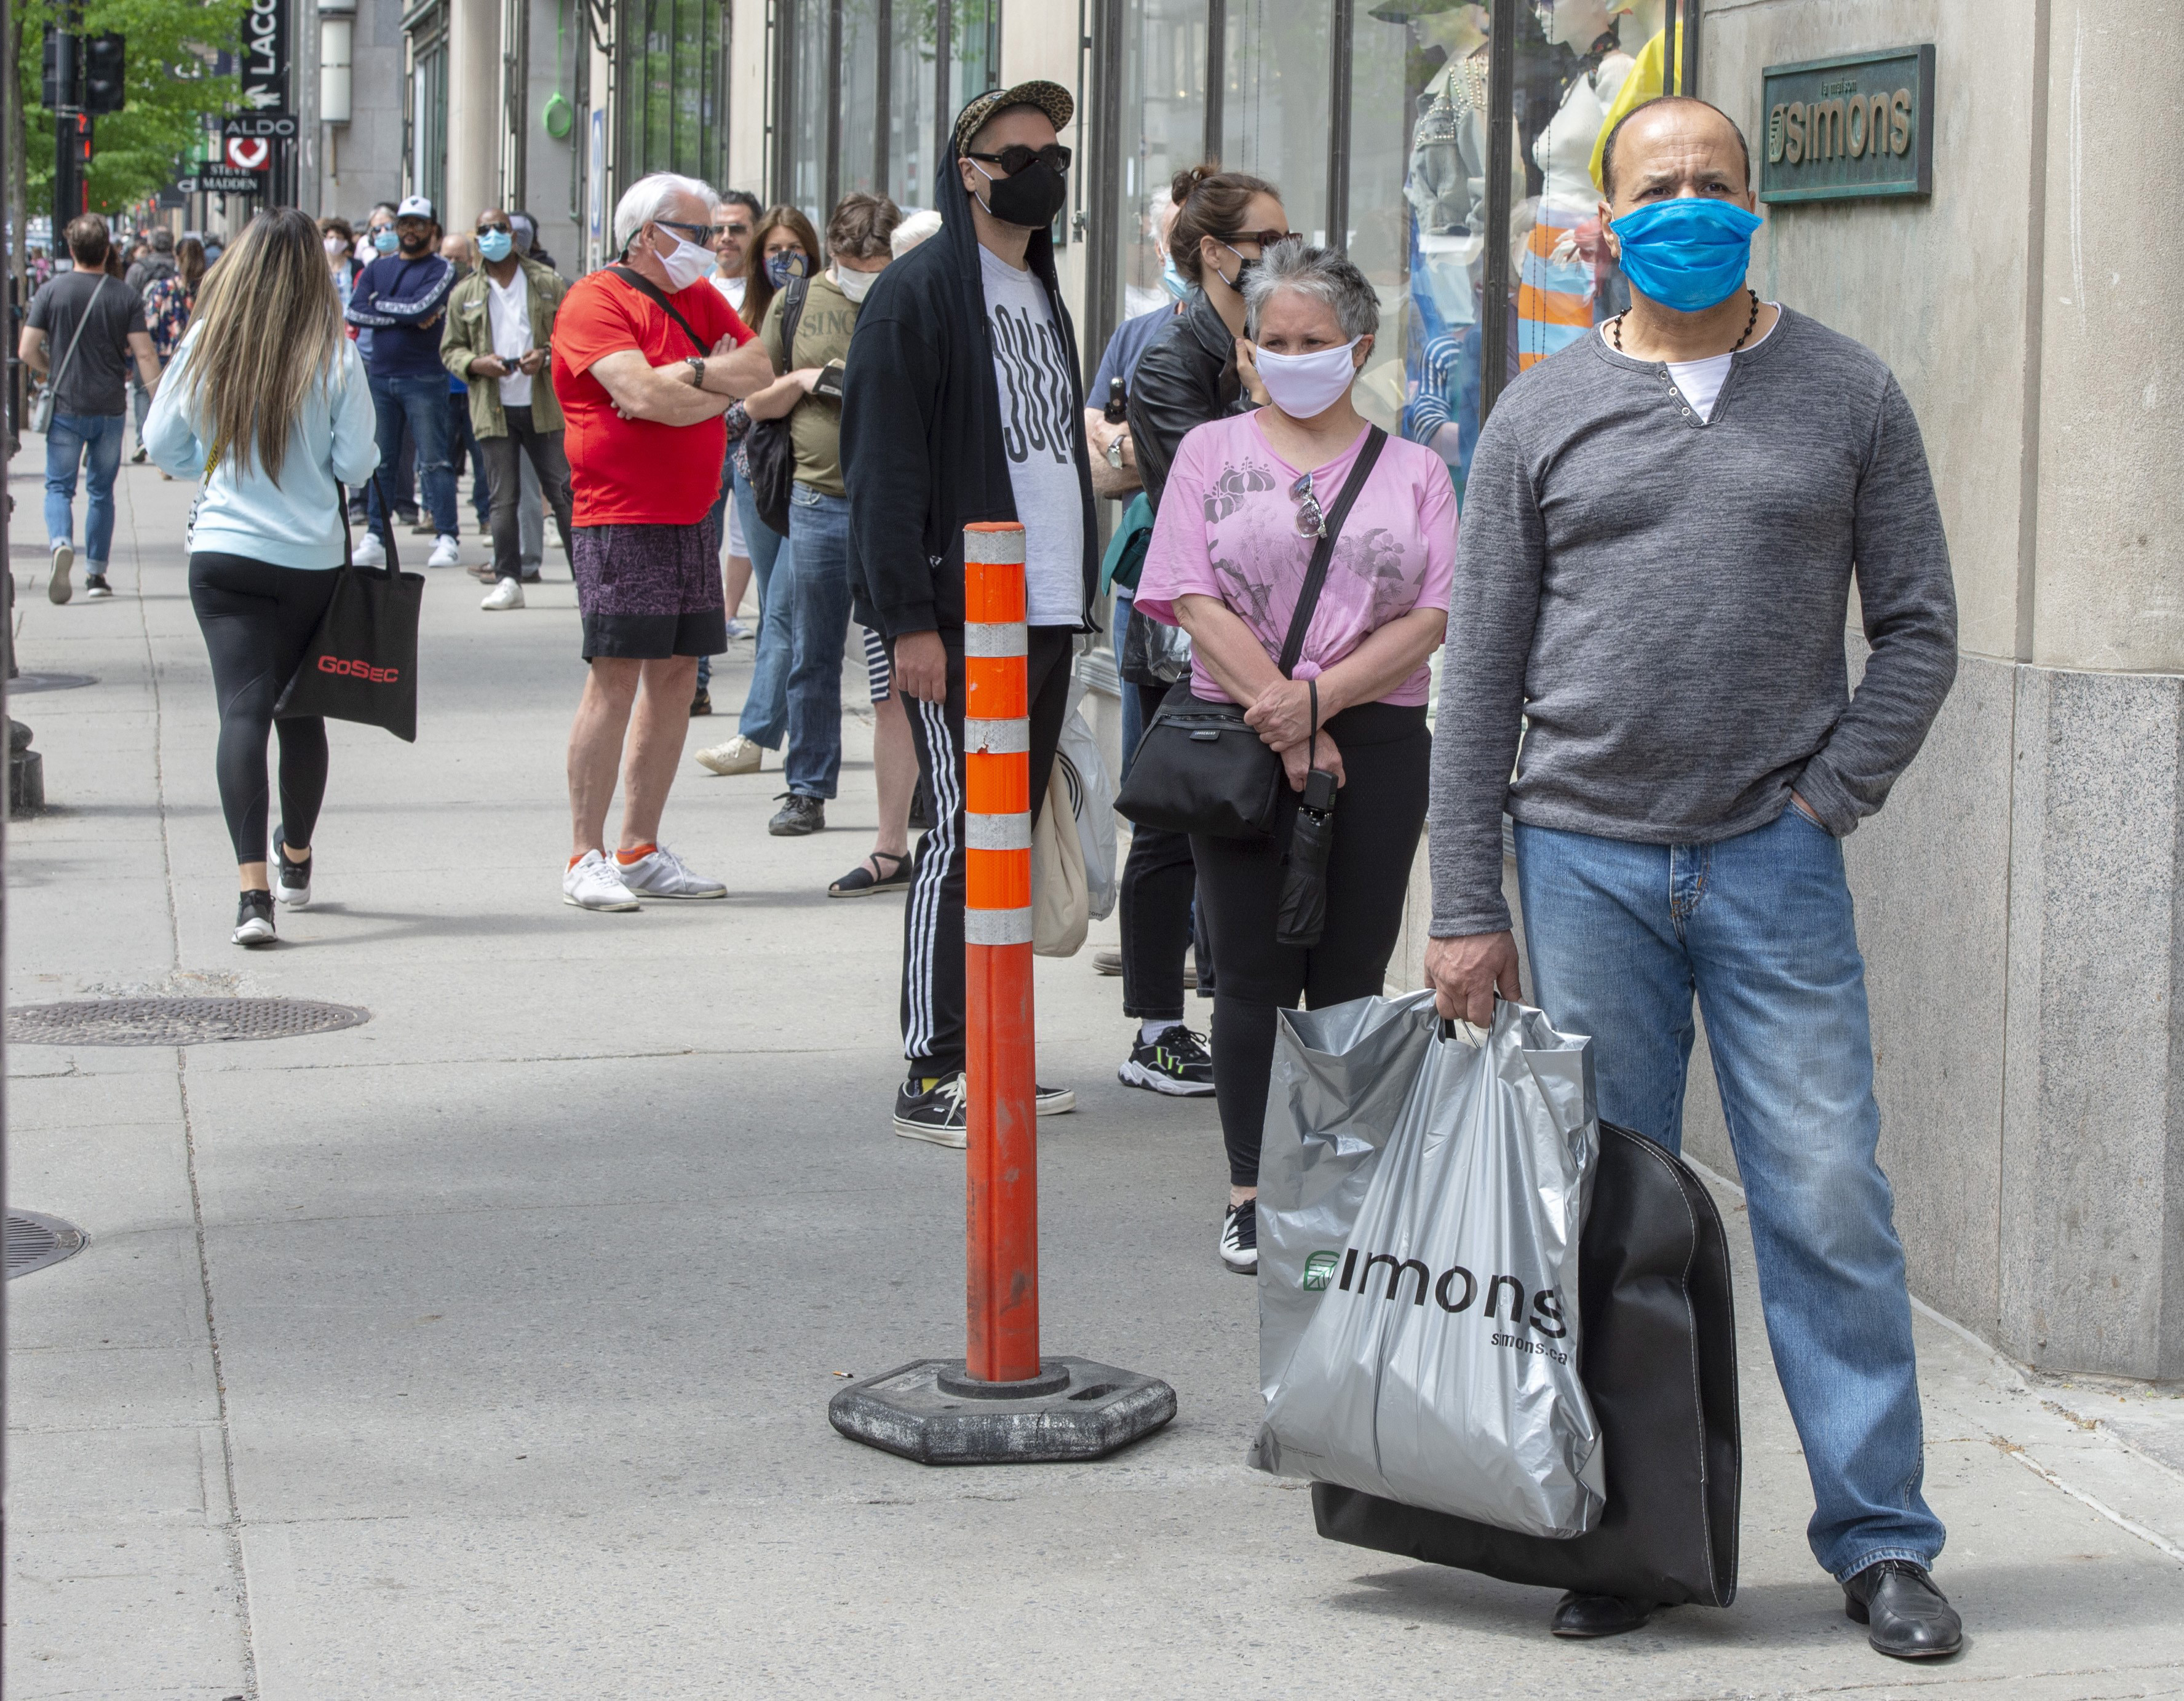with_mask: (1608, 136, 1756, 301), (1256, 309, 1354, 410), (989, 109, 1064, 232), (830, 208, 908, 312), (633, 197, 707, 285), (757, 216, 818, 307), (473, 205, 517, 264), (368, 207, 394, 254)
without_mask: (712, 202, 751, 279), (395, 207, 433, 255)
